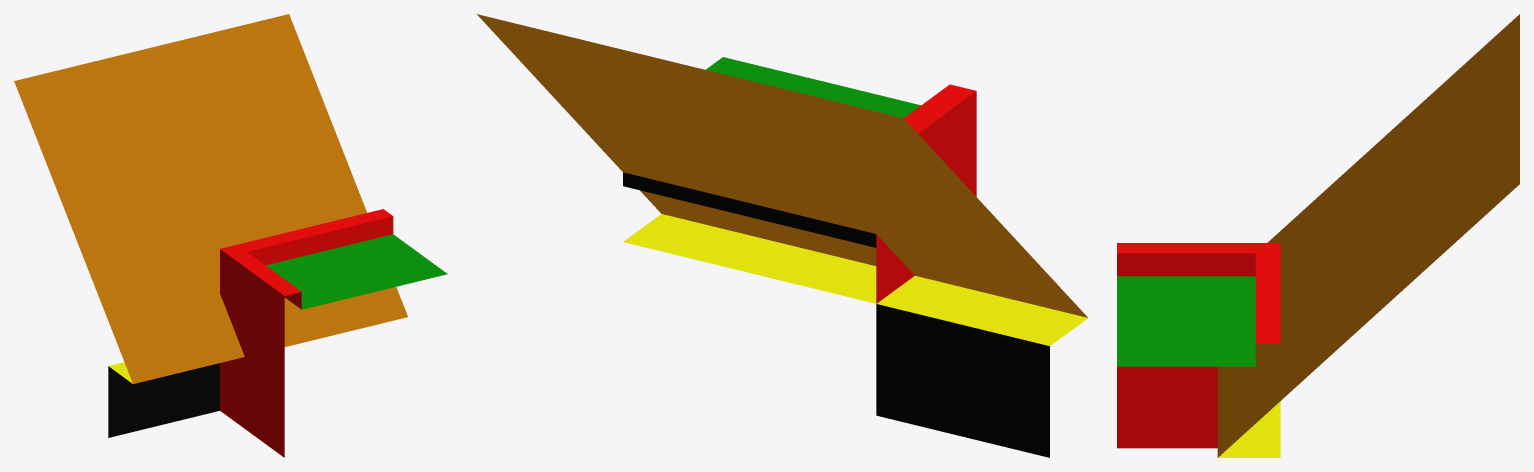
3 views of the same model, side by side, from view 1: azimuth 30°, elevation 25°; view 2: azimuth 150°, elevation 25°; view 3: azimuth 270°, elevation 25° (orthographic). The views are drawn at different scales.
Parts seen in each view (by area): view 1: None_S_W_E_E_S_E_E_E_None; view 2: None_S_W_E_E_S_E_E_E_None; view 3: None_S_W_E_E_S_E_E_E_None.
Boxes of the visible parts, bbox=[...] form: None_S_W_E_E_S_E_E_E_None: bbox=[14, 14, 447, 457]; None_S_W_E_E_S_E_E_E_None: bbox=[477, 14, 1087, 457]; None_S_W_E_E_S_E_E_E_None: bbox=[1117, 14, 1519, 457].
Bounding box in the file's own units: 100 × 100 × 100.
